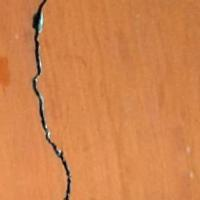crack: (5, 0, 90, 199)
